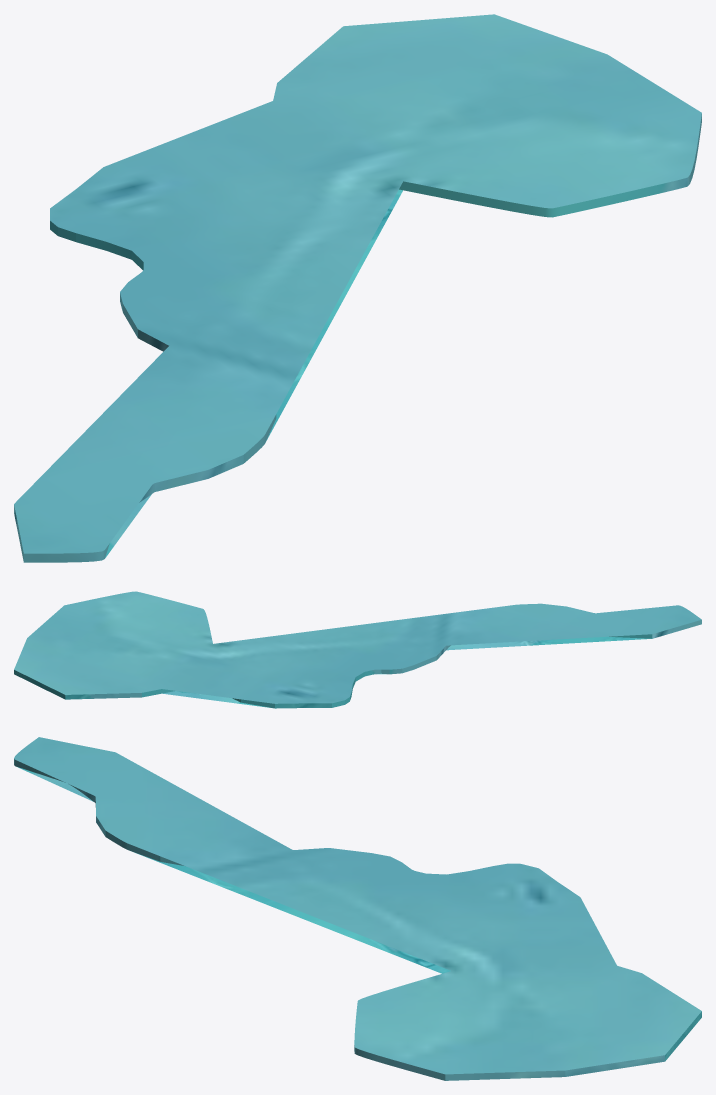
Rendered from lake.obj.
3 renders of one model, top to bottom at view 1: azimuth 30°, elevation 25°; view 2: azimuth 150°, elevation 25°; view 3: azimuth 270°, elevation 25°, orthographic. The views are drawn at different scales.
Parts seen in each view (by area): view 1: Line001; view 2: Line001; view 3: Line001.
Boxes of the visible parts, box(x1,y1,x2,y2) form: Line001: box(14, 14, 701, 562); Line001: box(14, 591, 701, 708); Line001: box(14, 737, 701, 1080).
Size of the model in its own units: 1889 by 17 by 1628.
